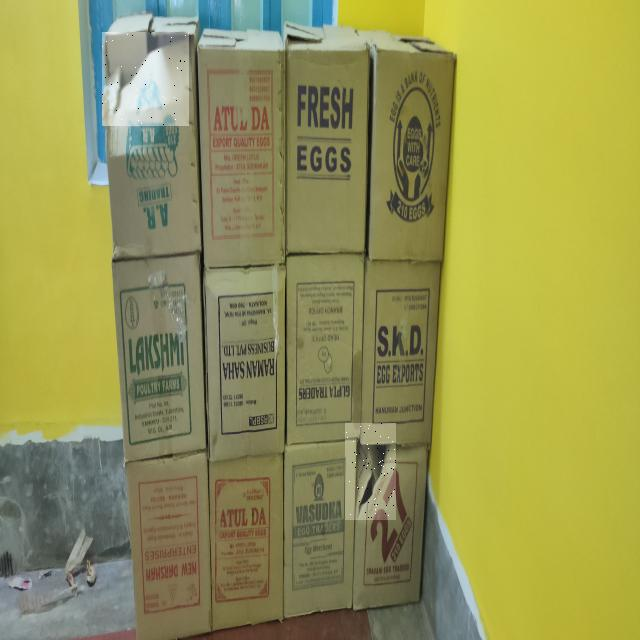squeeze: (103, 33, 188, 125), (345, 424, 396, 519)
